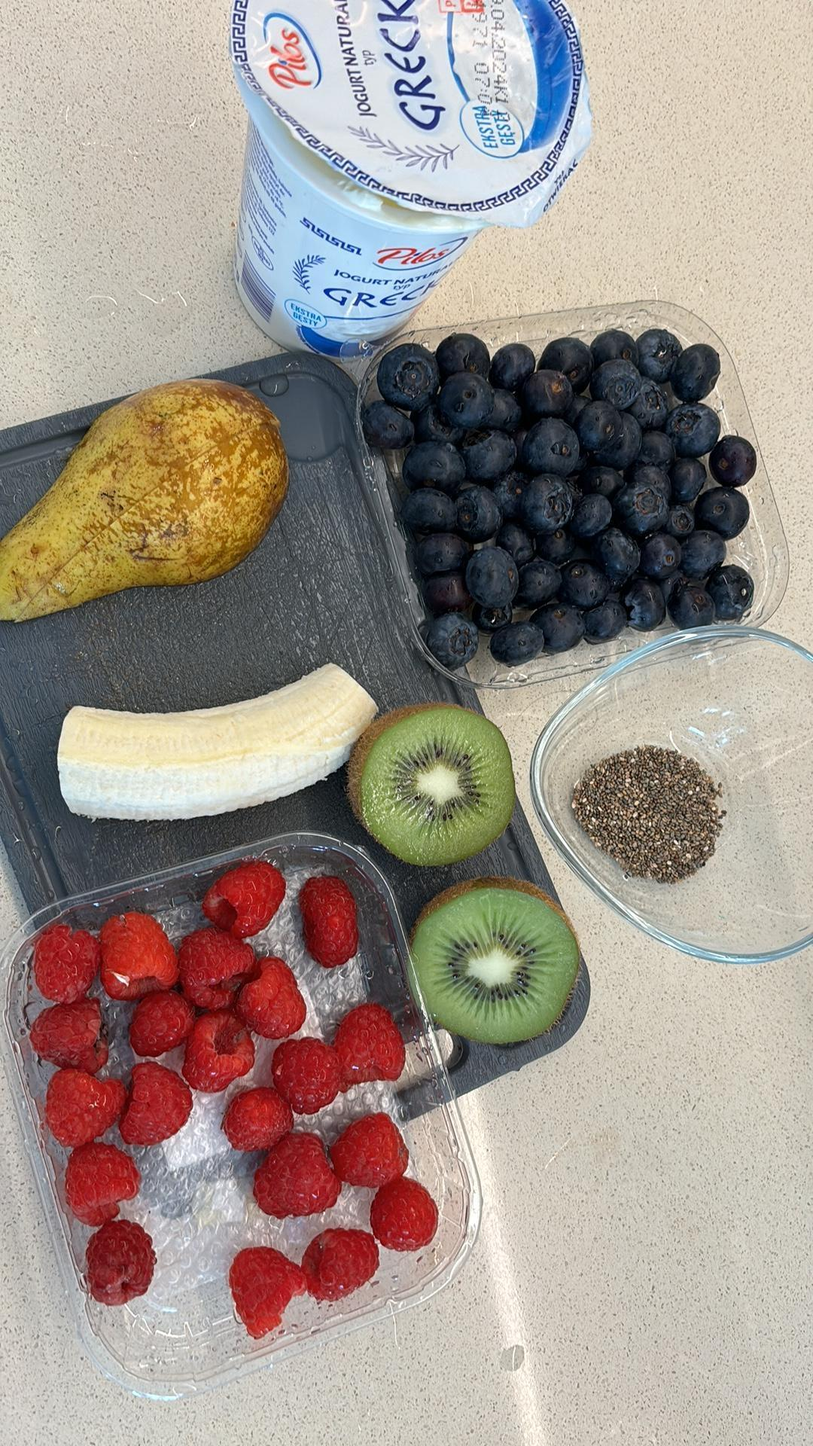banana: (53, 662, 381, 825)
blueberry: (378, 341, 440, 410), (450, 426, 523, 478), (416, 613, 483, 664), (393, 486, 462, 533), (405, 441, 468, 491), (463, 543, 515, 602), (588, 357, 646, 409), (431, 335, 494, 382), (674, 337, 721, 400), (707, 560, 757, 618), (697, 487, 748, 541), (458, 486, 506, 543), (527, 474, 573, 533), (612, 484, 666, 534), (416, 533, 472, 580), (530, 421, 577, 477), (665, 402, 721, 447), (697, 488, 749, 535), (367, 398, 415, 448), (423, 568, 473, 616), (445, 377, 489, 431), (634, 324, 681, 374), (544, 334, 593, 381), (491, 341, 542, 386), (622, 581, 664, 633), (491, 623, 541, 664), (605, 412, 641, 467), (515, 558, 557, 605), (480, 386, 524, 430), (593, 323, 640, 364), (598, 530, 635, 582), (524, 369, 572, 409), (529, 607, 583, 642), (562, 560, 605, 603), (671, 586, 712, 630), (681, 532, 721, 576), (710, 438, 751, 480), (575, 493, 614, 537), (580, 400, 615, 448), (639, 534, 678, 577), (582, 602, 627, 638), (671, 460, 705, 501), (633, 437, 670, 471)
kiwi: (414, 869, 579, 1045), (351, 699, 515, 870)
pear: (0, 373, 295, 627)
raspberry: (77, 1219, 163, 1311), (201, 852, 285, 938), (122, 1060, 198, 1155), (229, 1244, 305, 1338), (252, 1139, 343, 1217), (181, 1014, 265, 1096), (331, 995, 408, 1084), (24, 998, 115, 1071), (56, 1136, 136, 1218), (97, 916, 181, 992), (263, 1027, 340, 1107), (302, 1228, 379, 1306), (298, 871, 355, 967), (338, 1111, 406, 1189), (44, 1073, 119, 1143), (368, 1174, 431, 1254), (343, 1115, 408, 1188), (240, 959, 302, 1035), (38, 926, 99, 1000), (126, 987, 191, 1051), (227, 1092, 301, 1147)
